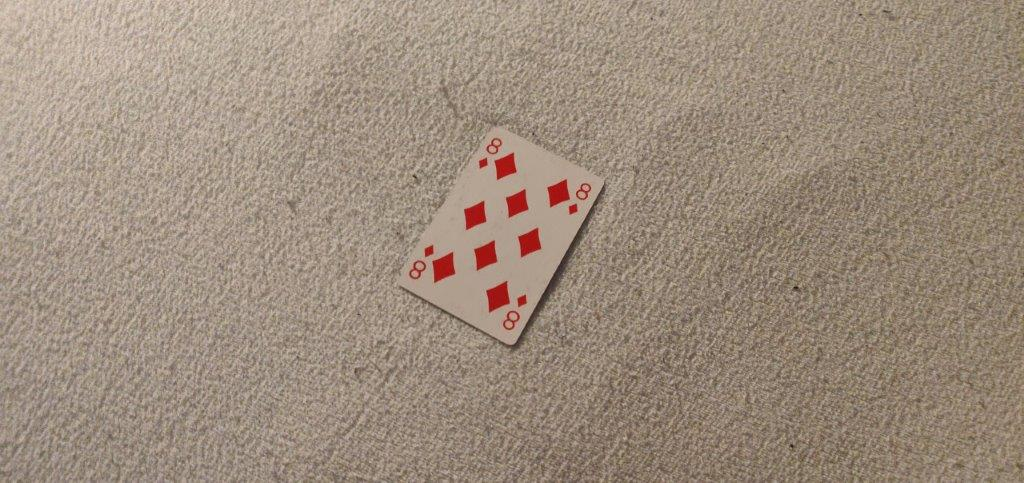8D: (475, 135, 502, 174), (566, 180, 592, 217)
